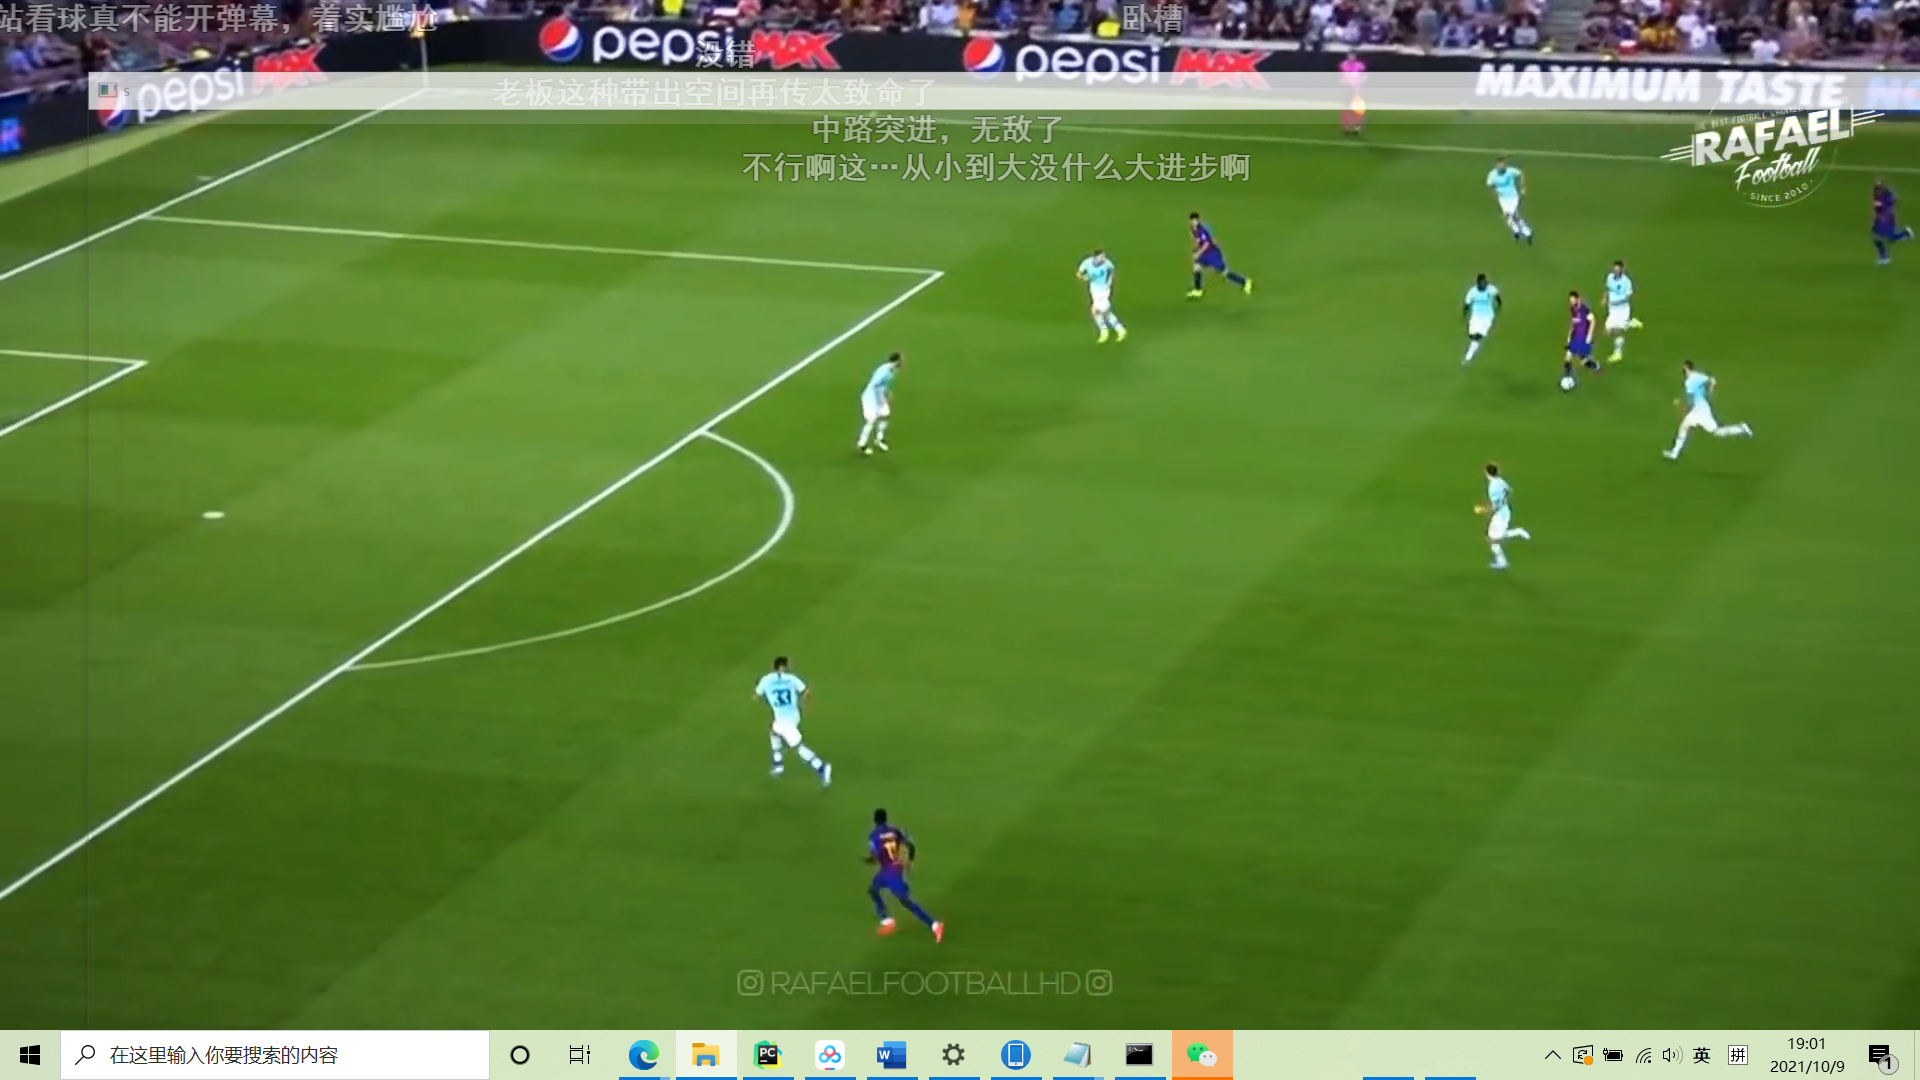ft: (1556, 375, 1577, 393)
